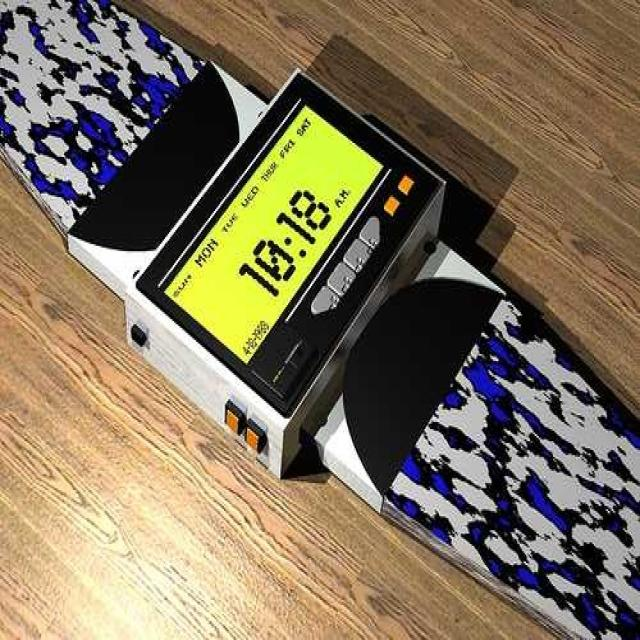watch: (163, 63, 412, 418)
